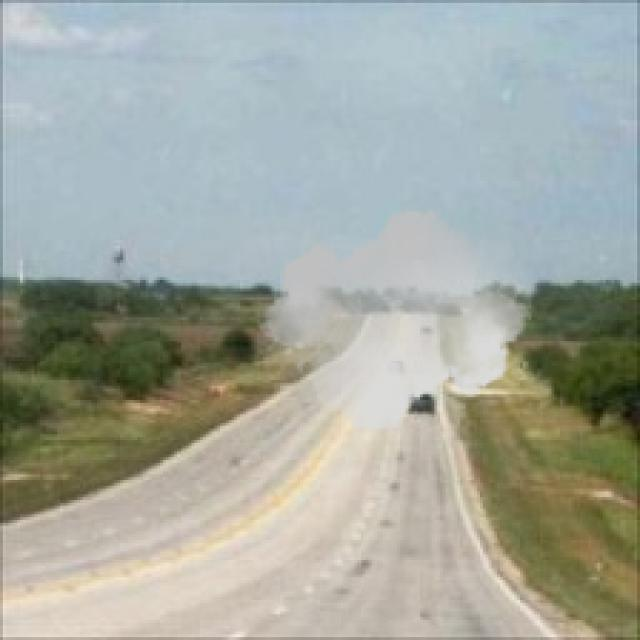smoke: (257, 200, 532, 440)
